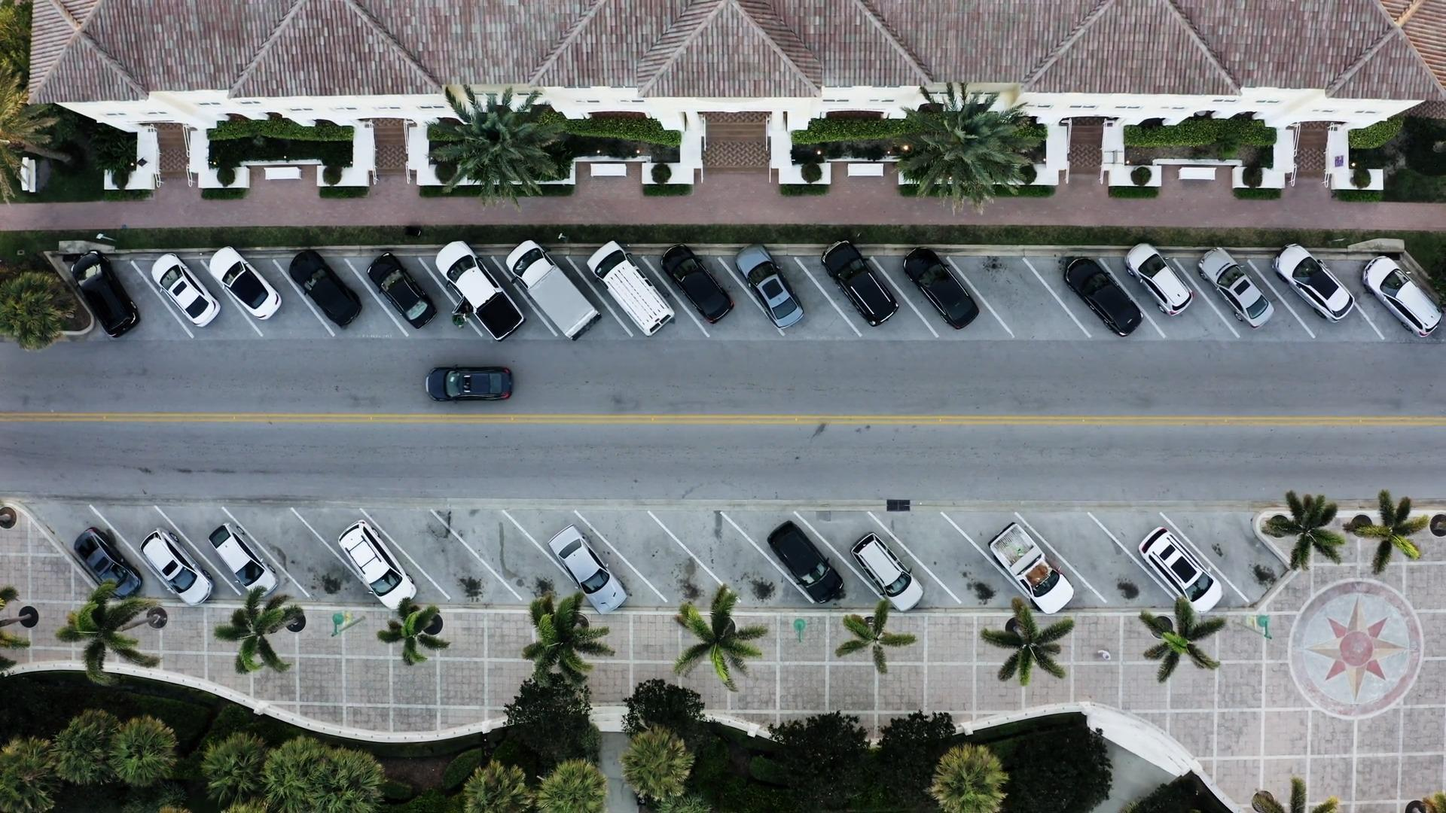car: (412, 344, 551, 441)
free: (246, 519, 383, 613), (664, 519, 800, 613), (892, 511, 1028, 605), (1030, 530, 1166, 624), (446, 506, 582, 600), (591, 514, 727, 608), (384, 523, 520, 617), (955, 249, 1091, 342), (1161, 490, 1297, 583)
occupied: (645, 240, 784, 337), (500, 249, 639, 346), (1039, 245, 1178, 342), (737, 499, 876, 596), (810, 503, 949, 600), (1254, 255, 1393, 352), (1183, 255, 1322, 352), (1101, 235, 1240, 332), (1307, 244, 1446, 341), (959, 516, 1098, 613), (516, 514, 655, 611), (100, 515, 239, 612), (408, 240, 547, 337), (346, 241, 485, 338), (133, 256, 272, 353), (28, 234, 167, 331), (723, 245, 861, 342), (560, 239, 698, 336), (803, 250, 941, 347), (896, 255, 1034, 352), (1076, 500, 1214, 597), (181, 504, 319, 601), (36, 521, 174, 618), (262, 235, 400, 332), (199, 243, 337, 340)
